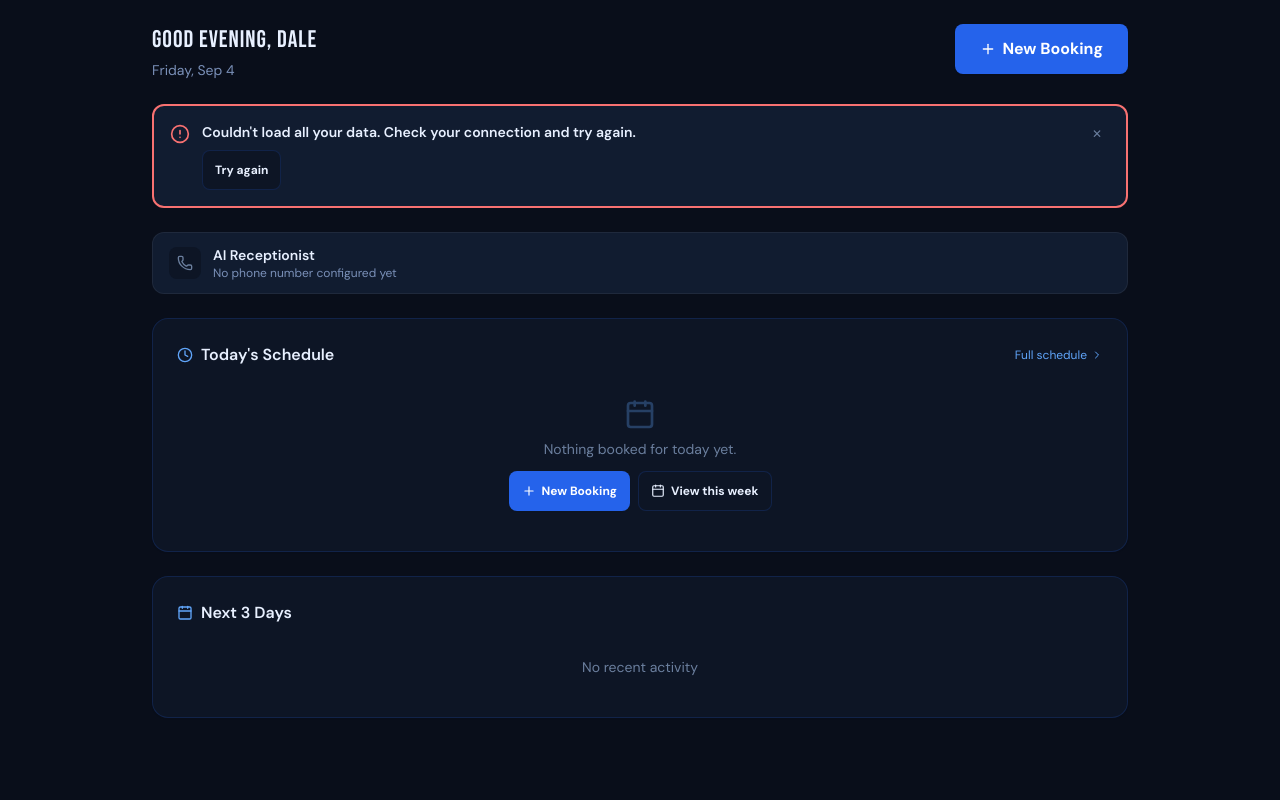
DashboardHome — load error visibility › HAPPY: dismiss button hides the error without re-fetching
The image size is (1280, 800).
Expected: the message "Couldn't load all your data. Check your connection and try again. Try again ✕" is shown, [152,104,1128,208]
Click the button named "dismiss error". click: (1097,134)
box: [1084,122,1110,146]
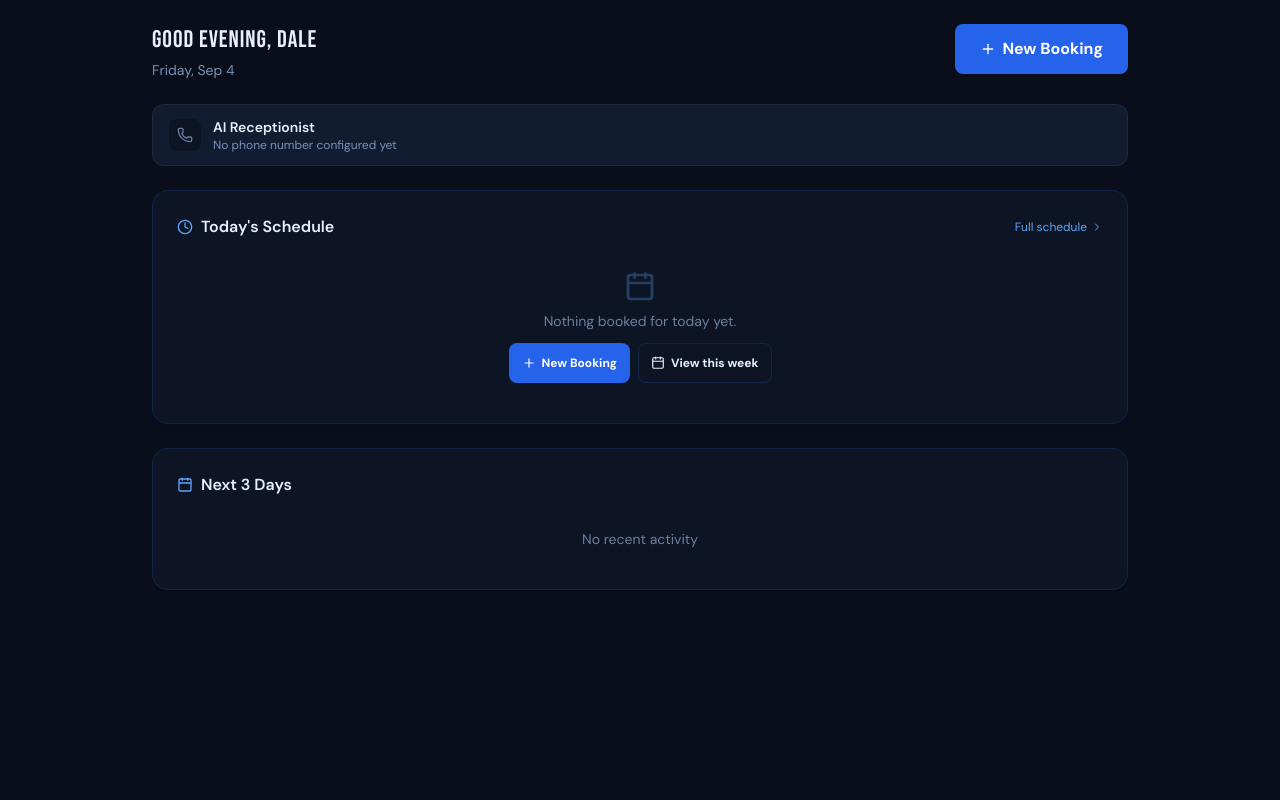
Result: the message "Couldn't load all your data. Check your connection and try again. Try again ✕" is gone
